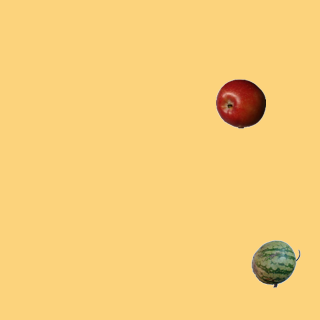Apple Braeburn: (215, 78, 265, 128)
Watermelon: (250, 238, 300, 288)
